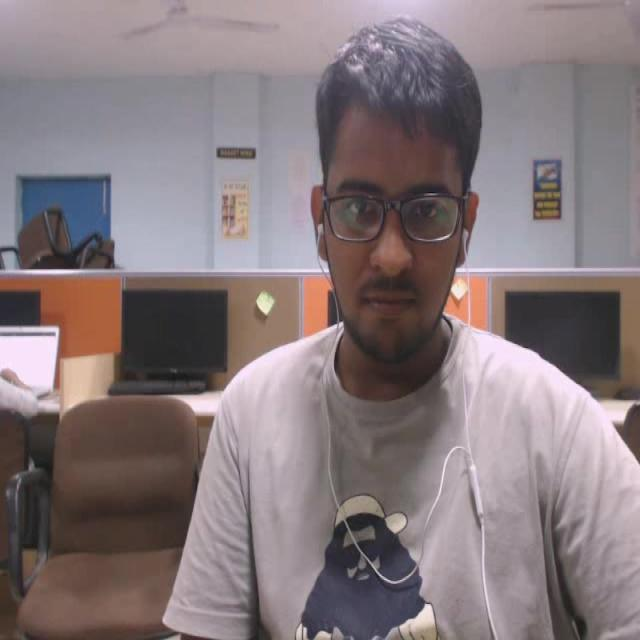Engaged: (296, 10, 484, 371)
